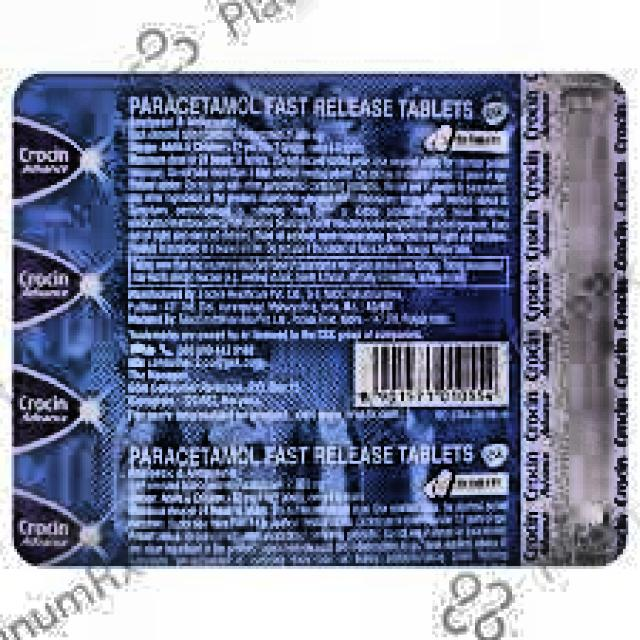Crocin: (14, 87, 134, 569)
